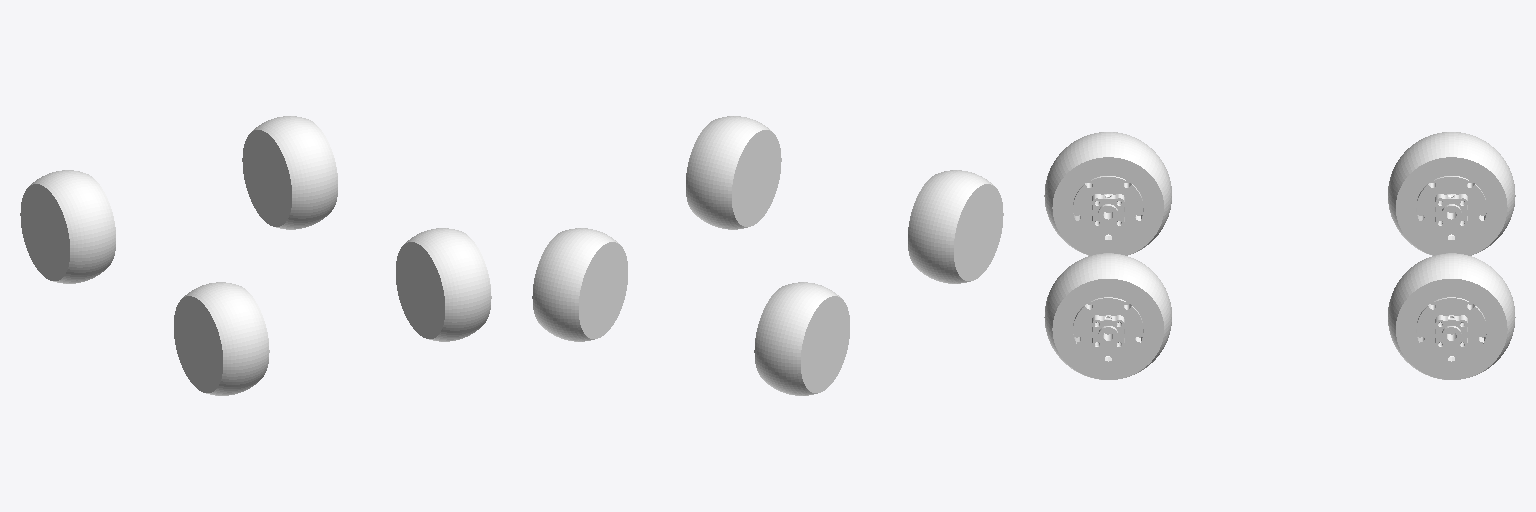
URDF robot description (rufus):
<?xml version="1.0" ?>
<!-- =================================================================================== -->
<!-- |    This document was autogenerated by xacro from base.xacro                     | -->
<!-- |    EDITING THIS FILE BY HAND IS NOT RECOMMENDED                                 | -->
<!-- =================================================================================== -->
<!--Base of RufUS robot-->
<robot name="rufus">
  <!--Frame link-->
  <link name="frame_link">
    <visual>
      <origin rpy="0.0 0.0 0.0" xyz="0.0 0.0 0.0285"/>
      <geometry>
        <mesh filename="package://base_description/mesh/Base_CAD.dae"/>
      </geometry>
    </visual>
    <collision>
      <origin rpy="0.0 0.0 0.0" xyz="0.0 0.0 0.0285"/>
      <geometry>
        <box size="0.290 0.330 0.057"/>
      </geometry>
    </collision>
    <inertial>
      <origin rpy="0.0 0.0 0.0" xyz="0.0 0.0 0.0285"/>
      <!--TO ADJUST-->
      <mass value="1.0"/>
      <inertia ixx="0.0" ixy="0.0" ixz="0.0" iyy="0.0" iyz="0.0" izz="0.0"/>
    </inertial>
  </link>
  <gazebo reference="frame_link">
    <gravity>true</gravity>
  </gazebo>
  <!--Wheels joints-->
  <joint name="joint_FR" type="revolute">
    <origin rpy="0.0 0.0 0.0" xyz="0.090 0.1075 0.0285"/>
    <parent link="frame_link"/>
    <child link="wheel_FR"/>
    <axis xyz="1 0 0"/>
    <!--effort in NM, velocity in rad/sec-->
    <limit effort="2" velocity="20.5"/>
  </joint>
  <joint name="joint_FL" type="revolute">
    <origin rpy="0.0 0.0 0.0" xyz="-0.090 0.1075 0.0285"/>
    <parent link="frame_link"/>
    <child link="wheel_FL"/>
    <axis xyz="1 0 0"/>
    <!--effort in NM, velocity in rad/sec-->
    <limit effort="2" velocity="20.5"/>
  </joint>
  <joint name="joint_RR" type="revolute">
    <origin rpy="0.0 0.0 0.0" xyz="0.090 -0.1075 0.0285"/>
    <parent link="frame_link"/>
    <child link="wheel_RR"/>
    <axis xyz="1 0 0"/>
    <!--effort in NM, velocity in rad/sec-->
    <limit effort="2" velocity="20.5"/>
  </joint>
  <joint name="joint_RL" type="revolute">
    <origin rpy="0.0 0.0 0.0" xyz="-0.090 -0.1075 0.0285"/>
    <parent link="frame_link"/>
    <child link="wheel_RL"/>
    <axis xyz="1 0 0"/>
    <!--effort in NM, velocity in rad/sec-->
    <limit effort="2" velocity="20.5"/>
  </joint>
  <!--Wheels links-->
  <link name="wheel_FR">
    <visual>
      <!--TO ADJUST-->
      <origin rpy="0.0 0.0 0.0" xyz="0.0 0.0 0.0"/>
      <geometry>
        <mesh filename="package://base_description/mesh/Wheel_CAD.dae"/>
      </geometry>
    </visual>
    <collision>
      <!--TO ADJUST-->
      <origin rpy="0.0 0.0 0.0" xyz="0.0 0.0 0.0"/>
      <geometry>
        <cylinder length="0.0275" radius="0.040"/>
      </geometry>
    </collision>
    <inertial>
      <!--TO ADJUST-->
      <origin rpy="0.0 0.0 0.0" xyz="0.0 0.0 0.0"/>
      <mass value="0.0"/>
      <inertia ixx="0.0" ixy="0.0" ixz="0.0" iyy="0.0" iyz="0.0" izz="0.0"/>
    </inertial>
  </link>
  <gazebo reference="wheel_FR">
    <gravity>true</gravity>
  </gazebo>
  <link name="wheel_FL">
    <visual>
      <!--TO ADJUST-->
      <origin rpy="0.0 0.0 0.0" xyz="0.0 0.0 0.0"/>
      <geometry>
        <mesh filename="package://base_description/mesh/Wheel_CAD.dae"/>
      </geometry>
    </visual>
    <collision>
      <!--TO ADJUST-->
      <origin rpy="0.0 0.0 0.0" xyz="0.0 0.0 0.0"/>
      <geometry>
        <cylinder length="0.0275" radius="0.040"/>
      </geometry>
    </collision>
    <inertial>
      <!--TO ADJUST-->
      <origin rpy="0.0 0.0 0.0" xyz="0.0 0.0 0.0"/>
      <mass value="0.0"/>
      <inertia ixx="0.0" ixy="0.0" ixz="0.0" iyy="0.0" iyz="0.0" izz="0.0"/>
    </inertial>
  </link>
  <gazebo reference="wheel_FL">
    <gravity>true</gravity>
  </gazebo>
  <link name="wheel_RR">
    <visual>
      <!--TO ADJUST-->
      <origin rpy="0.0 0.0 0.0" xyz="0.0 0.0 0.0"/>
      <geometry>
        <mesh filename="package://base_description/mesh/Wheel_CAD.dae"/>
      </geometry>
    </visual>
    <collision>
      <!--TO ADJUST-->
      <origin rpy="0.0 0.0 0.0" xyz="0.0 0.0 0.0"/>
      <geometry>
        <cylinder length="0.0275" radius="0.040"/>
      </geometry>
    </collision>
    <inertial>
      <!--TO ADJUST-->
      <origin rpy="0.0 0.0 0.0" xyz="0.0 0.0 0.0"/>
      <mass value="0.0"/>
      <inertia ixx="0.0" ixy="0.0" ixz="0.0" iyy="0.0" iyz="0.0" izz="0.0"/>
    </inertial>
  </link>
  <gazebo reference="wheel_RR">
    <gravity>true</gravity>
  </gazebo>
  <link name="wheel_RL">
    <visual>
      <!--TO ADJUST-->
      <origin rpy="0.0 0.0 0.0" xyz="0.0 0.0 0.0"/>
      <geometry>
        <mesh filename="package://base_description/mesh/Wheel_CAD.dae"/>
      </geometry>
    </visual>
    <collision>
      <!--TO ADJUST-->
      <origin rpy="0.0 0.0 0.0" xyz="0.0 0.0 0.0"/>
      <geometry>
        <cylinder length="0.0275" radius="0.040"/>
      </geometry>
    </collision>
    <inertial>
      <!--TO ADJUST-->
      <origin rpy="0.0 0.0 0.0" xyz="0.0 0.0 0.0"/>
      <mass value="0.0"/>
      <inertia ixx="0.0" ixy="0.0" ixz="0.0" iyy="0.0" iyz="0.0" izz="0.0"/>
    </inertial>
  </link>
  <gazebo reference="wheel_RL">
    <gravity>true</gravity>
  </gazebo>
</robot>

--- Facts derived from the render (not from the file) ---
The picture shows the robot from 3 angles, left to right: view 1: azimuth 30°, elevation 25°; view 2: azimuth 150°, elevation 25°; view 3: azimuth 270°, elevation 25°; orthographic projection.
Robot: rufus — 5 links, 4 joints (4 revolute); root link frame_link; default pose: all joints at 0.
Links seen in each view (by area): view 1: wheel_FL, wheel_RR, wheel_FR, wheel_RL; view 2: wheel_RL, wheel_FR, wheel_FL, wheel_RR; view 3: wheel_FR, wheel_RR, wheel_FL, wheel_RL.
Boxes of the visible links, x1,y1,x2,y2 form: wheel_FL: (20, 170, 115, 283); wheel_RR: (396, 228, 491, 341); wheel_FR: (242, 116, 337, 229); wheel_RL: (174, 282, 269, 395); wheel_RL: (908, 170, 1003, 283); wheel_FR: (532, 228, 627, 341); wheel_FL: (754, 282, 849, 395); wheel_RR: (686, 116, 781, 229); wheel_FR: (1388, 253, 1515, 379); wheel_RR: (1044, 253, 1171, 379); wheel_FL: (1388, 132, 1515, 255); wheel_RL: (1044, 132, 1171, 255).
Size in the robot's own frame: 0.2279 by 0.295 by 0.08 metres.
4 mesh visuals loaded from 2 distinct referenced files (1 Collada DAE); not drawn: 1 (reference not matched to a file when rendering).
